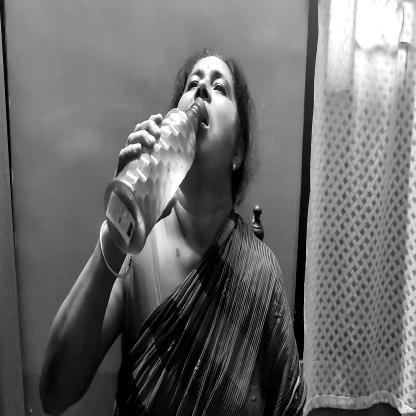Distracted: (186, 56, 239, 180)
